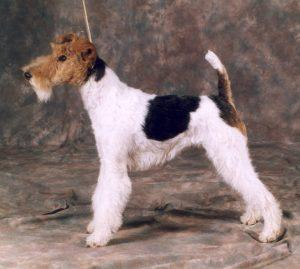wire-haired_fox_terrier: (22, 33, 285, 249)
